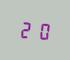two: (19, 18, 33, 39)
zero: (34, 19, 48, 40)
